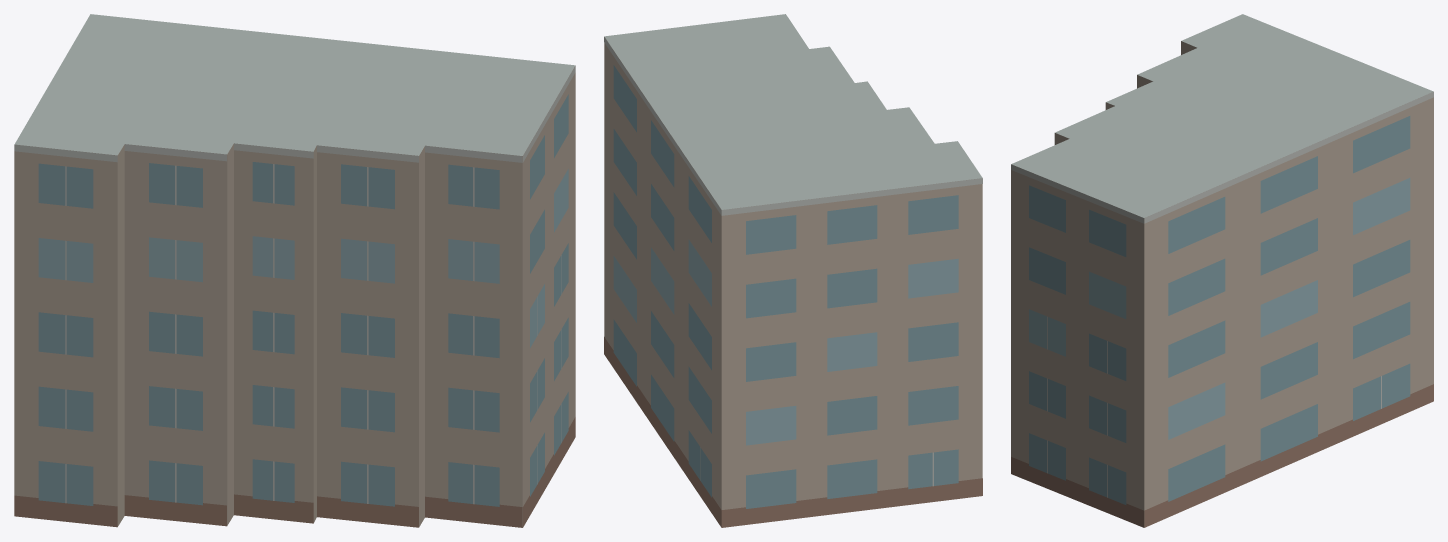
The model's file is survey-upis-32947489.glb.
3 renders of one model, left to right at view 1: azimuth 30°, elevation 25°; view 2: azimuth 150°, elevation 25°; view 3: azimuth 270°, elevation 25°, orthographic. The views are drawn at different scales.
Visible parts, largest first — view 1: survey-upis-32947489.tmp; view 2: survey-upis-32947489.tmp; view 3: survey-upis-32947489.tmp.
Boxes of the visible parts, x1,y1,x2,y2 form: survey-upis-32947489.tmp: (14,14,575,527); survey-upis-32947489.tmp: (604,14,982,527); survey-upis-32947489.tmp: (1011,14,1433,527).
Bounding box in the file's own units: 18.73 × 13.25 × 16.4.
